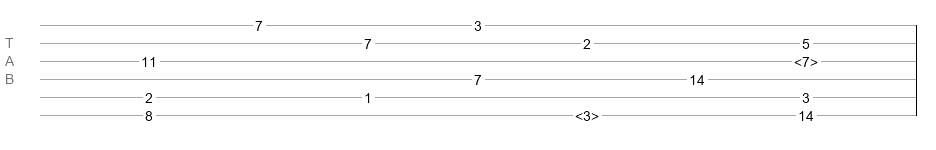1: (364, 90, 372, 100)
11: (141, 54, 157, 64)
14: (689, 72, 705, 82), (798, 108, 814, 118)
2: (145, 90, 153, 100), (583, 36, 591, 46)
3: (474, 18, 482, 28), (802, 90, 810, 100)
5: (802, 36, 810, 46)
7: (255, 18, 263, 28), (364, 36, 372, 46), (474, 72, 482, 82)
8: (145, 108, 153, 118)
harmonic: (575, 108, 599, 118), (794, 54, 818, 64)
